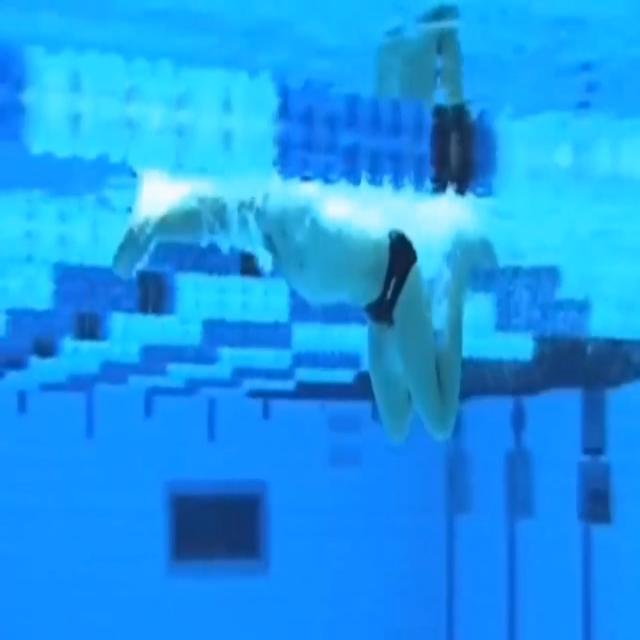Swimming: (110, 173, 500, 451)
